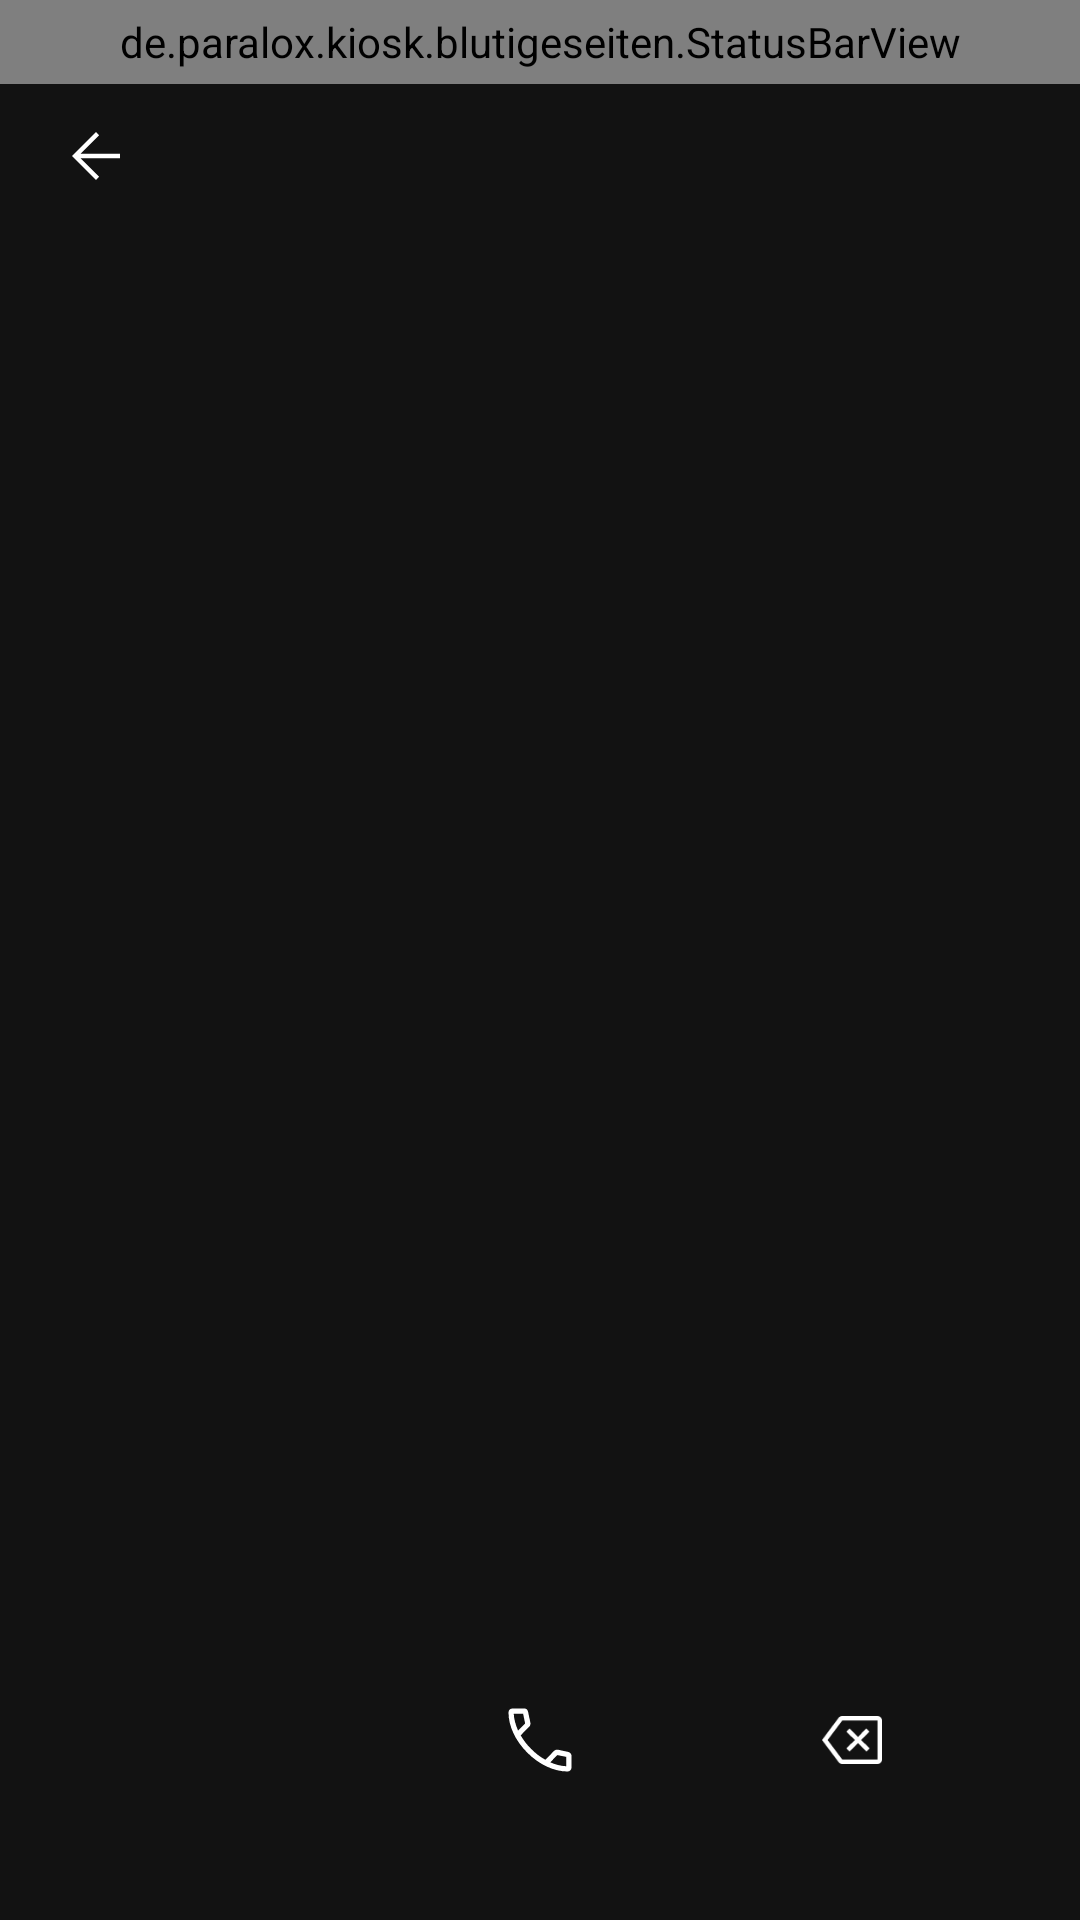

Locate icon controls on the screen. Image size 1080px x 1920px, boxes as (x1, y1, x2, y2).
Anrufen: (508, 1708, 572, 1772)
Löschen: (822, 1716, 882, 1764)
Zurück: (72, 132, 120, 180)
